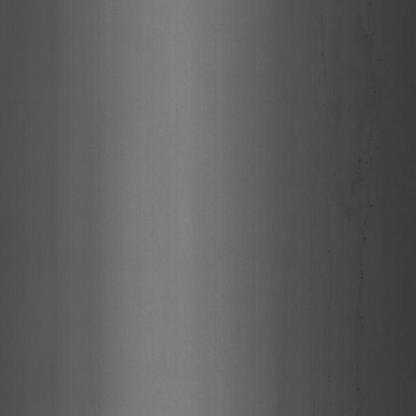inclusion: (351, 80, 378, 176), (353, 197, 376, 255)
